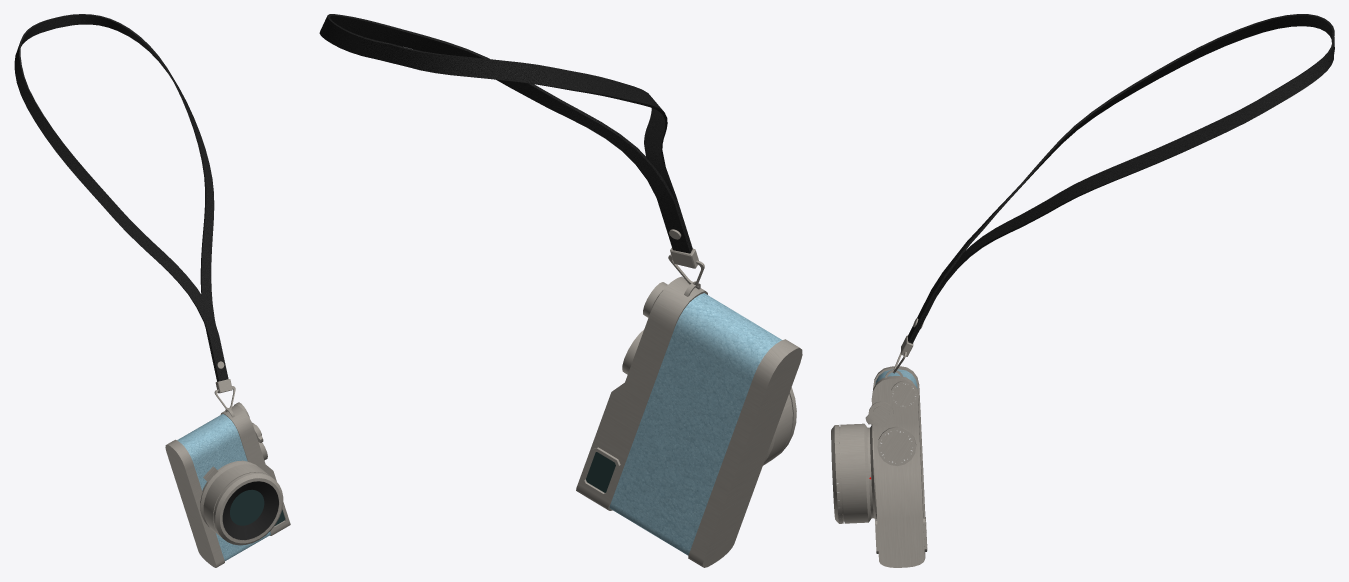
File: camera-blue.glb
3 renders of one model, left to right at view 1: azimuth 30°, elevation 25°; view 2: azimuth 150°, elevation 25°; view 3: azimuth 270°, elevation 25°, orthographic. The views are drawn at different scales.
Parts seen in each view (by area): view 1: Camera_body, CameraStrap; view 2: Camera_body, CameraStrap; view 3: Camera_body, CameraStrap.
Boxes of the visible parts, x1,y1,x2,y2 form: Camera_body: (165,402,290,567); CameraStrap: (14,14,235,410); Camera_body: (576,276,802,567); CameraStrap: (319,14,704,286); Camera_body: (831,366,927,567); CameraStrap: (893,14,1334,373).
Size of the model in its own units: 0.1255 by 0.3488 by 0.3011.
Materials: 3 (2 with a texture image).
